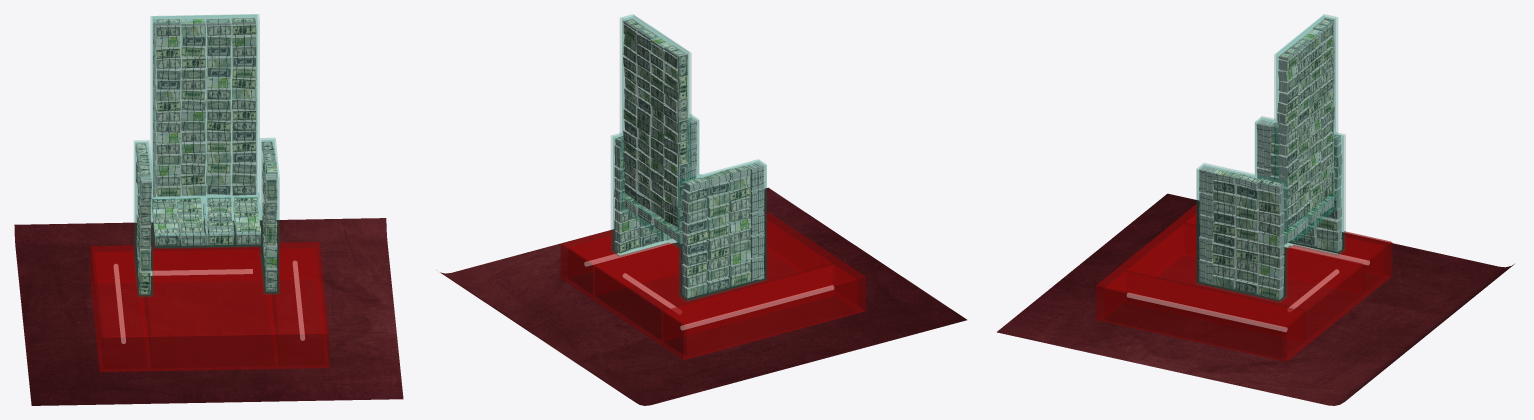
3 renders of one model, left to right at view 1: azimuth 30°, elevation 25°; view 2: azimuth 150°, elevation 25°; view 3: azimuth 270°, elevation 25°, orthographic.
Visible parts, largest first — view 1: Carpet, Pod, polySurface9, polySurface7, polySurface8, polySurface6, pCylinder3, pCylinder1, pCylinder2; view 2: Carpet, Pod, polySurface9, polySurface8, polySurface6, polySurface7, pCylinder1; view 3: Carpet, Pod, polySurface9, polySurface6, polySurface8, polySurface7, pCylinder2.
Boxes of the visible parts, bbox=[...] form: Carpet: bbox=[14, 218, 403, 405]; Pod: bbox=[90, 242, 328, 372]; polySurface9: bbox=[150, 14, 259, 200]; polySurface7: bbox=[152, 193, 263, 248]; polySurface8: bbox=[134, 140, 153, 296]; polySurface6: bbox=[260, 138, 279, 294]; pCylinder3: bbox=[150, 269, 252, 275]; pCylinder1: bbox=[114, 264, 125, 343]; pCylinder2: bbox=[293, 261, 304, 340]; Carpet: bbox=[440, 187, 966, 405]; Pod: bbox=[560, 211, 865, 359]; polySurface9: bbox=[620, 14, 691, 232]; polySurface8: bbox=[678, 159, 766, 301]; polySurface6: bbox=[611, 114, 699, 256]; polySurface7: bbox=[620, 174, 701, 247]; pCylinder1: bbox=[680, 285, 833, 330]; Carpet: bbox=[997, 193, 1514, 405]; Pod: bbox=[1095, 204, 1392, 361]; polySurface9: bbox=[1274, 14, 1337, 233]; polySurface6: bbox=[1196, 163, 1287, 302]; polySurface8: bbox=[1255, 116, 1345, 255]; polySurface7: bbox=[1286, 194, 1338, 248]; pCylinder2: bbox=[1127, 293, 1287, 331].
Size of the model in its own units: 26.61 by 15.82 by 27.2.
11 materials, 7 textured.
